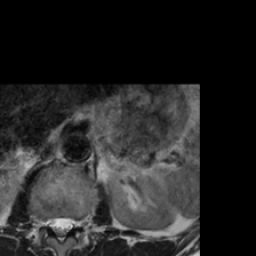CCS_normal: (55, 209, 64, 248)
LFS_normal: (74, 209, 82, 235)
LLS_normal: (64, 209, 74, 239)
RFS_normal: (39, 209, 47, 236)
RLS_normal: (47, 208, 55, 240)
